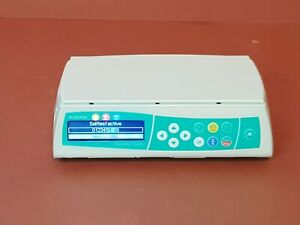BBraun Infusomat Space: (51, 53, 274, 160)
